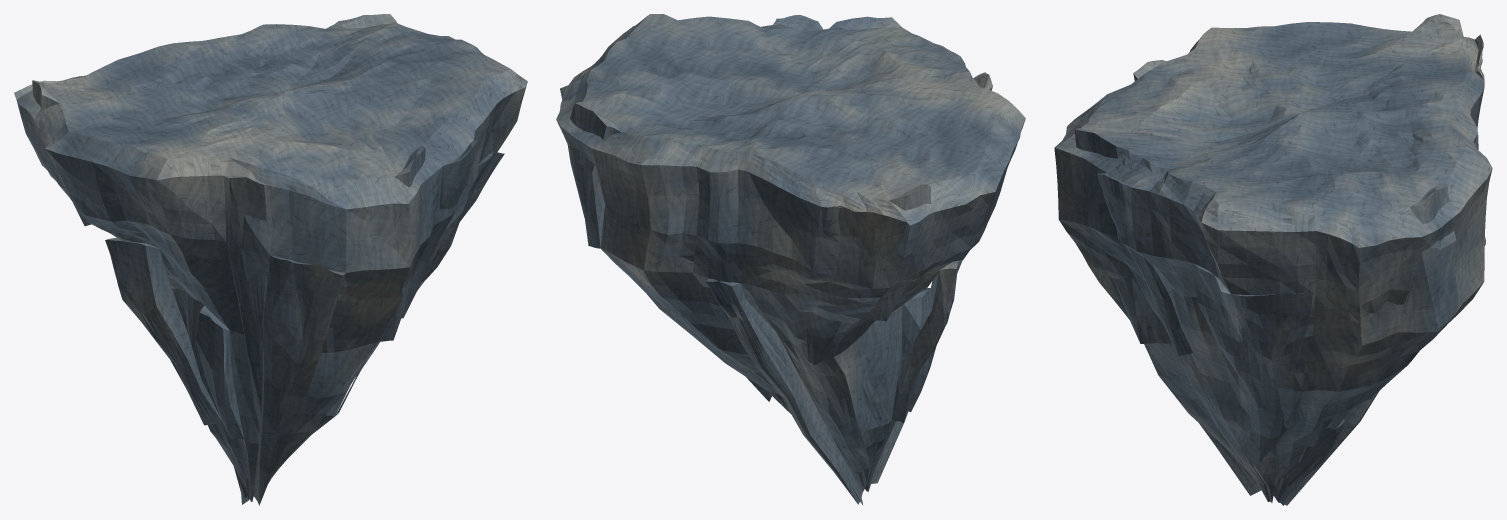
3 renders of one model, left to right at view 1: azimuth 30°, elevation 25°; view 2: azimuth 150°, elevation 25°; view 3: azimuth 270°, elevation 25°, orthographic. The views are drawn at different scales.
Visible parts, largest first — view 1: F19_stone; view 2: F19_stone; view 3: F19_stone.
Part boxes in pixels (bbox=[...]): F19_stone: bbox=[14, 14, 527, 505]; F19_stone: bbox=[556, 14, 1025, 505]; F19_stone: bbox=[1054, 14, 1492, 505].
Bounding box in the file's own units: 5.65 × 5.1 × 4.76.
1 material, 1 textured.
